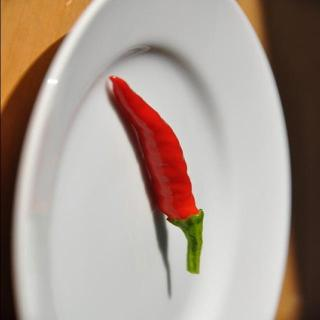Cabai Merah: (109, 75, 205, 275)
